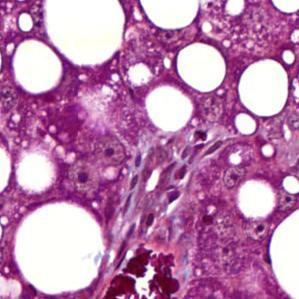steatosis: (10, 202, 110, 296), (236, 53, 291, 123), (10, 37, 64, 94), (173, 40, 229, 92), (145, 87, 199, 136)
